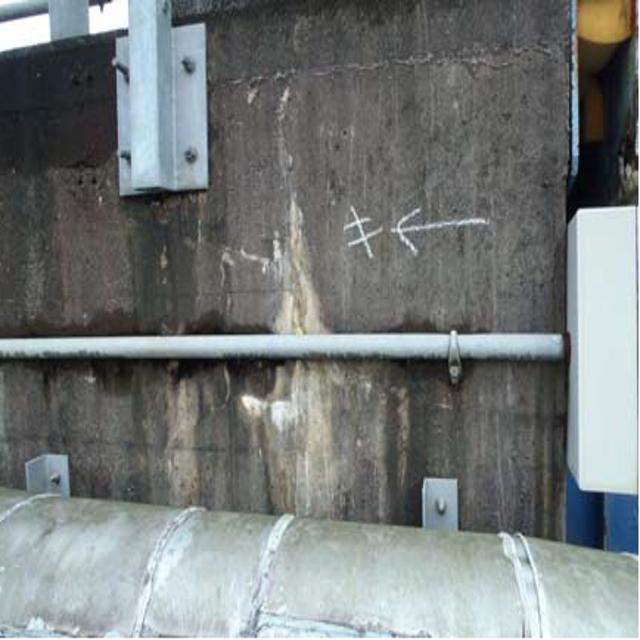freelime: (253, 221, 336, 496)
